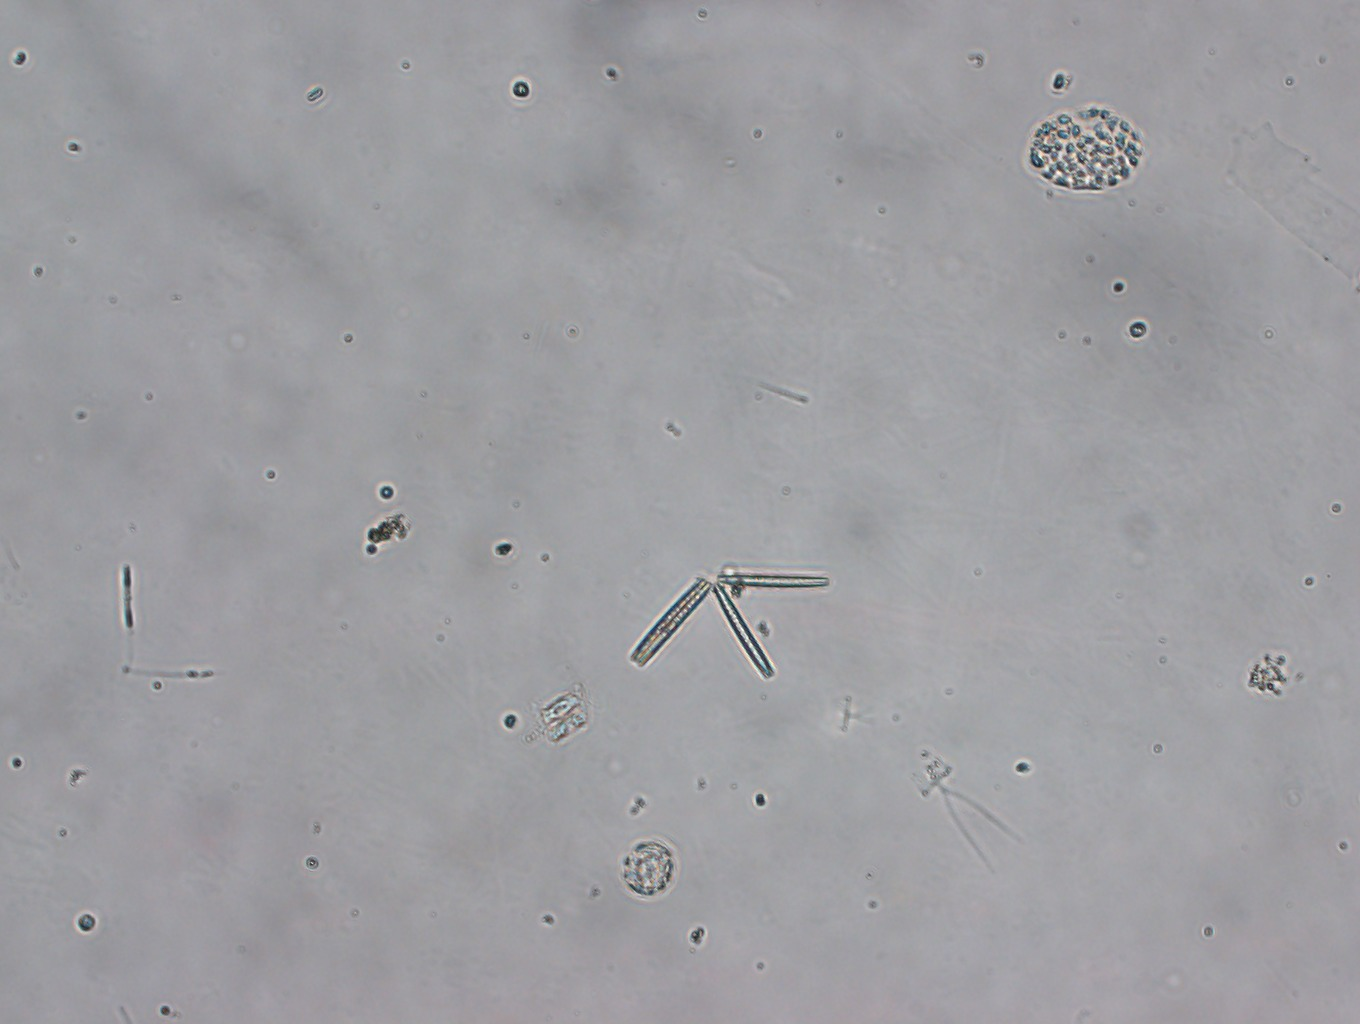thalassionema nitzschioides: (629, 572, 833, 683)
